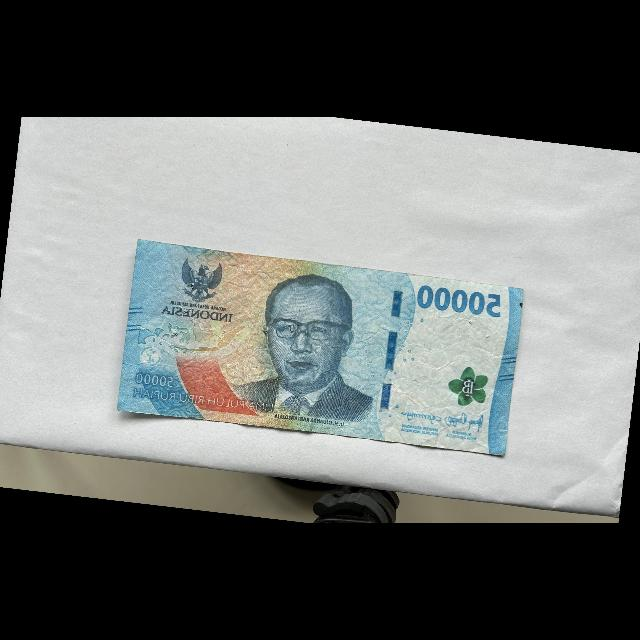Palsu-50k: (113, 237, 529, 463)
Tinta-Palsu-50k: (444, 363, 491, 411)
